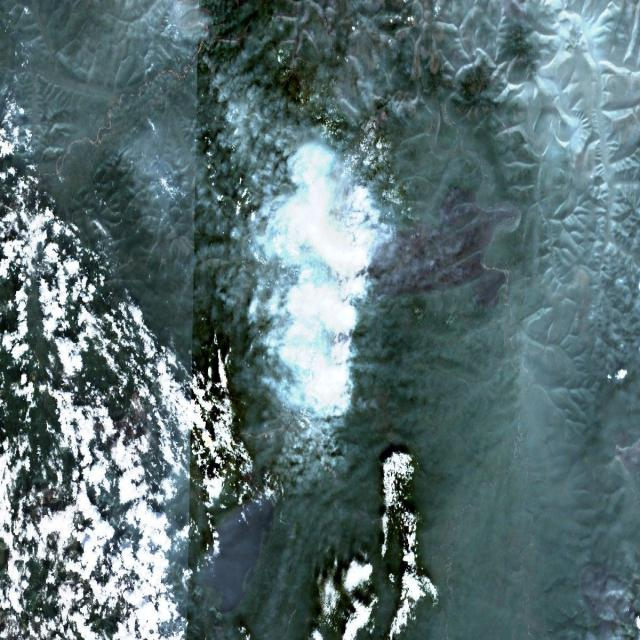fire: (326, 180, 398, 362)
